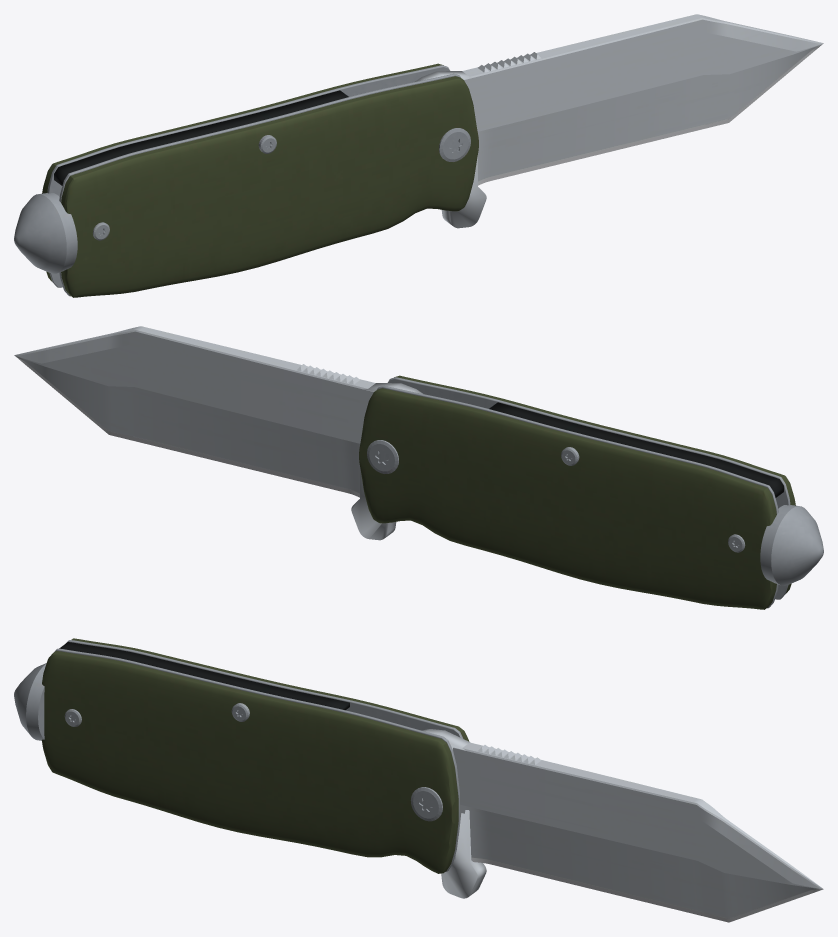
The model's file is ursus.glb.
3 renders of one model, top to bottom at view 1: azimuth 30°, elevation 25°; view 2: azimuth 150°, elevation 25°; view 3: azimuth 330°, elevation 25°, orthographic.
Visible parts, largest first — view 1: body, blade_pivot_mesh; view 2: body, blade_pivot_mesh; view 3: body, blade_pivot_mesh.
Boxes of the visible parts, x1,y1,x2,y2 form: body: [14, 63, 478, 297]; blade_pivot_mesh: [415, 14, 823, 228]; body: [359, 375, 823, 609]; blade_pivot_mesh: [14, 326, 422, 540]; body: [14, 638, 469, 873]; blade_pivot_mesh: [422, 729, 823, 922].
Size of the model in its own units: 0.247 by 0.0469 by 0.0216.
5 materials, 5 textured.
